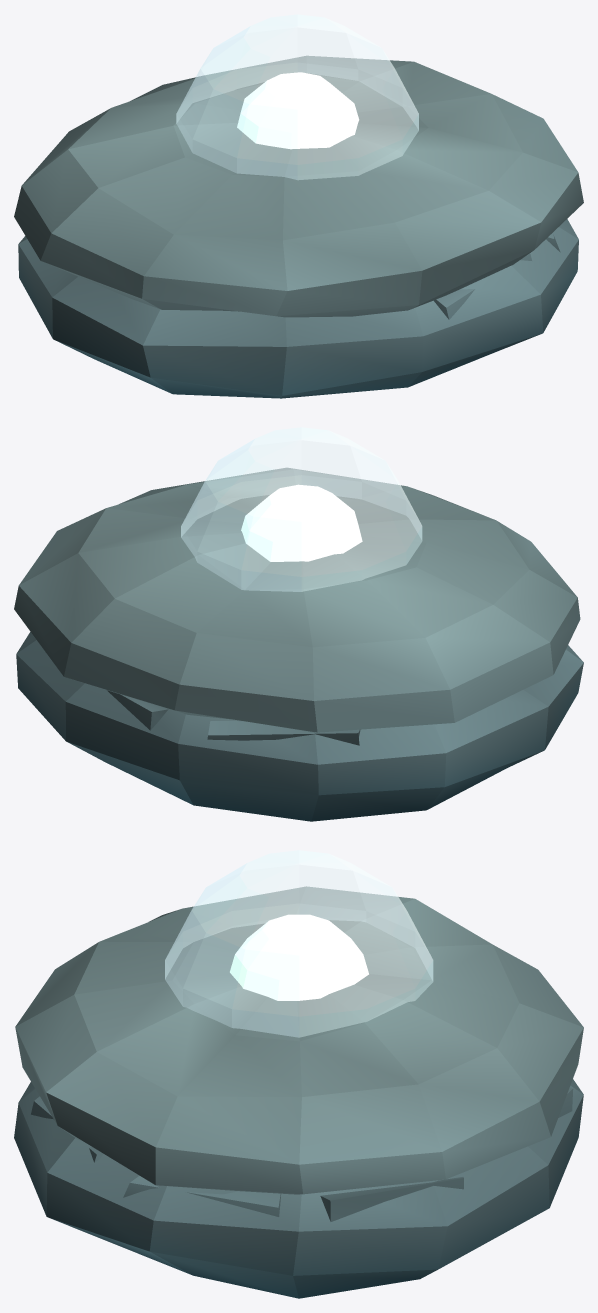
File: item_heal_pearl.glb
3 renders of one model, top to bottom at view 1: azimuth 30°, elevation 25°; view 2: azimuth 150°, elevation 25°; view 3: azimuth 270°, elevation 25°, orthographic. The views are drawn at different scales.
Visible parts, largest first — view 1: item_heal_pearl_stone, item_heal_pearl_glass, item_heal_pearl_bio; view 2: item_heal_pearl_stone, item_heal_pearl_glass, item_heal_pearl_bio; view 3: item_heal_pearl_stone, item_heal_pearl_glass, item_heal_pearl_bio.
Boxes of the visible parts, x1=… form: item_heal_pearl_stone: x1=14, y1=56, x2=583, y2=398; item_heal_pearl_glass: x1=176, y1=14, x2=418, y2=179; item_heal_pearl_bio: x1=237, y1=72, x2=358, y2=149; item_heal_pearl_stone: x1=14, y1=468, x2=583, y2=821; item_heal_pearl_glass: x1=181, y1=427, x2=422, y2=591; item_heal_pearl_bio: x1=241, y1=484, x2=362, y2=561; item_heal_pearl_stone: x1=14, y1=886, x2=583, y2=1298; item_heal_pearl_glass: x1=165, y1=850, x2=433, y2=1037; item_heal_pearl_bio: x1=230, y1=914, x2=368, y2=1000.
Size of the model in its own units: 1.22 by 0.7329 by 1.08.
